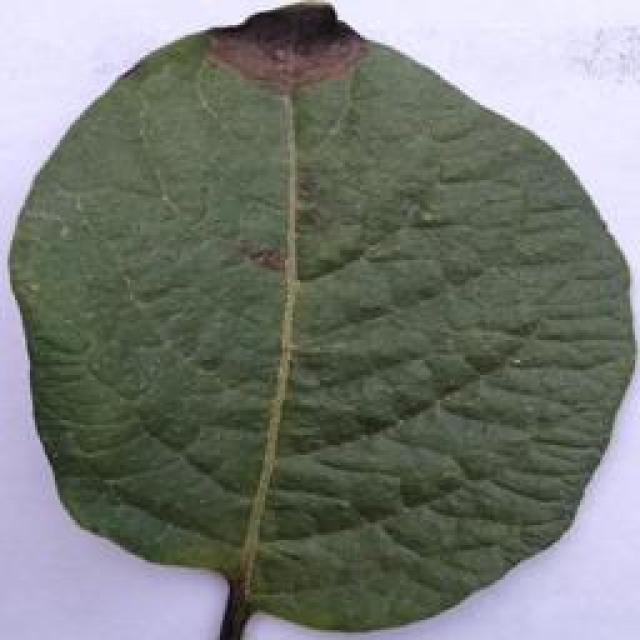Potato_Late_Blight: (6, 3, 636, 627)
